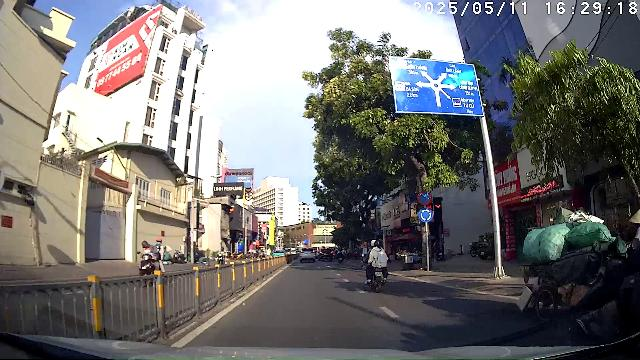303-noi-giao-nhau-chay-theo-vong-xuyen: (418, 207, 434, 222)
